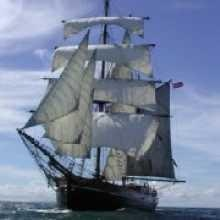fanchuan: (16, 5, 182, 212)
